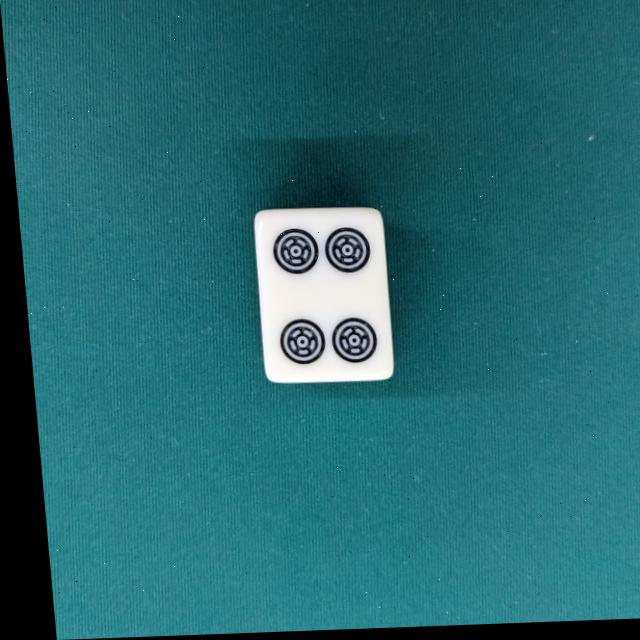4p: (247, 206, 391, 388)
